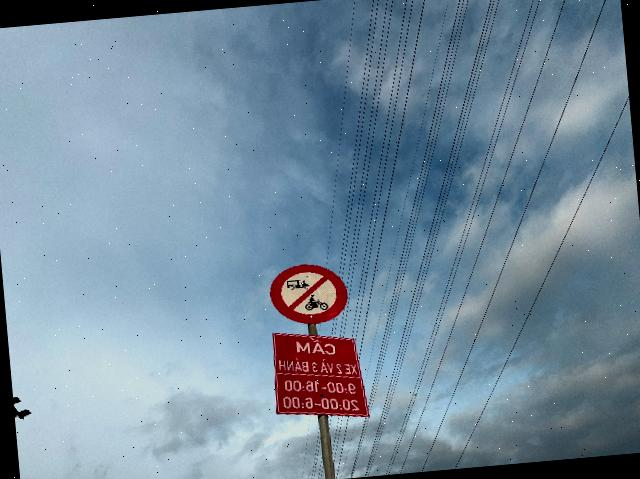cam-xe-2-banh-3-banh: (267, 260, 350, 328)
